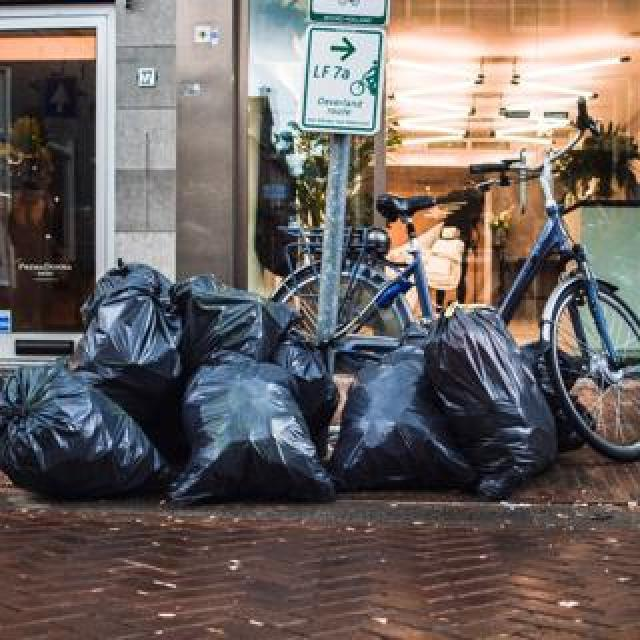high trash: (0, 265, 556, 503)
